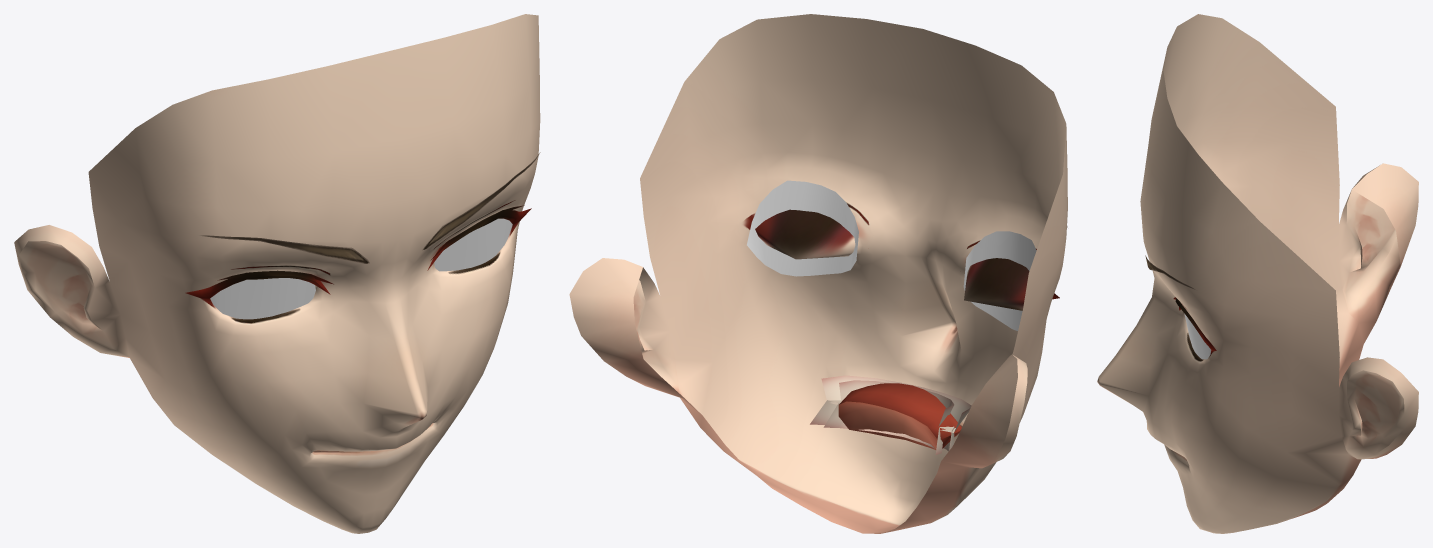
The model's file is Arashi.fbx.
The picture shows the model from 3 angles, left to right: view 1: azimuth 30°, elevation 25°; view 2: azimuth 150°, elevation 25°; view 3: azimuth 270°, elevation 25°; orthographic projection. The views are drawn at different scales.
Visible parts, largest first — view 1: M_Head, M_Eye_B_Def, M_Mth_B_Def, M_PupALL_R_A_Def, M_PupALL_L_A_Def, M_Brw_B_Def; view 2: M_Head, M_Eye_B_Def, M_Mth_B_Def, M_PupALL_L_A_Def, M_PupALL_R_A_Def; view 3: M_Head, M_Eye_B_Def, M_Mth_B_Def, M_PupALL_L_A_Def.
Part boxes in pixels (<box>): M_Head: <box>14,14,540,379</box>; M_Eye_B_Def: <box>120,122,540,417</box>; M_Mth_B_Def: <box>129,349,493,533</box>; M_PupALL_R_A_Def: <box>210,278,315,319</box>; M_PupALL_L_A_Def: <box>434,218,512,271</box>; M_Brw_B_Def: <box>197,152,540,263</box>; M_Head: <box>569,14,1067,468</box>; M_Eye_B_Def: <box>669,123,1067,417</box>; M_Mth_B_Def: <box>678,325,1022,533</box>; M_PupALL_L_A_Def: <box>747,180,858,276</box>; M_PupALL_R_A_Def: <box>963,231,1036,330</box>; M_Head: <box>1140,14,1418,459</box>; M_Eye_B_Def: <box>1097,107,1292,452</box>; M_Mth_B_Def: <box>1098,313,1376,533</box>; M_PupALL_L_A_Def: <box>1184,313,1211,359</box>.
Bounding box in the file's own units: 0.1774 × 0.179 × 0.1133.
5 materials, 3 textured.
